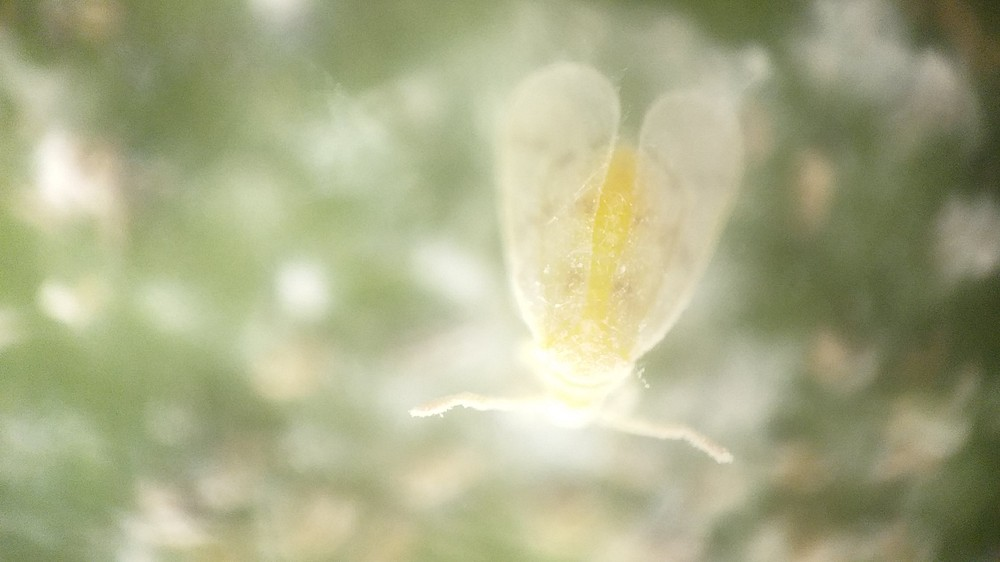Mosca Blanca: (402, 33, 760, 500)
